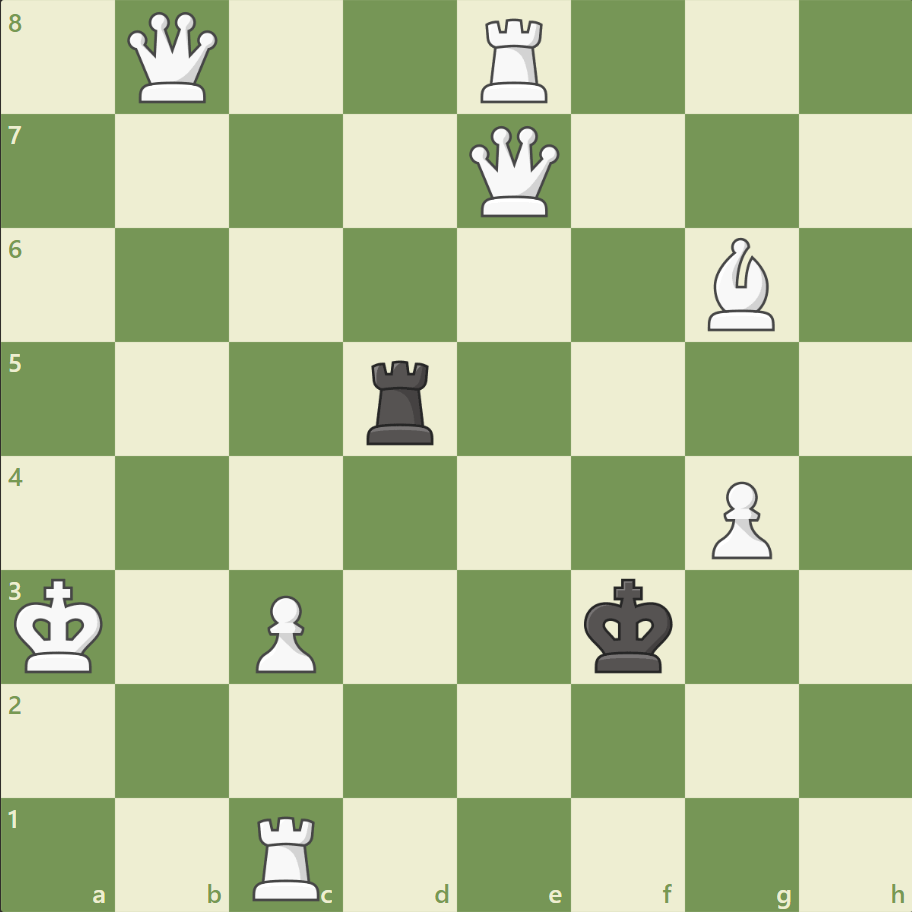B: (698, 233, 782, 336)
K: (11, 571, 111, 679)
P: (701, 473, 776, 564), (247, 586, 322, 677)
Q: (464, 122, 563, 222), (124, 9, 223, 108)
R: (246, 806, 329, 904), (473, 12, 556, 109)
k: (579, 571, 679, 679)
r: (360, 352, 442, 449)
